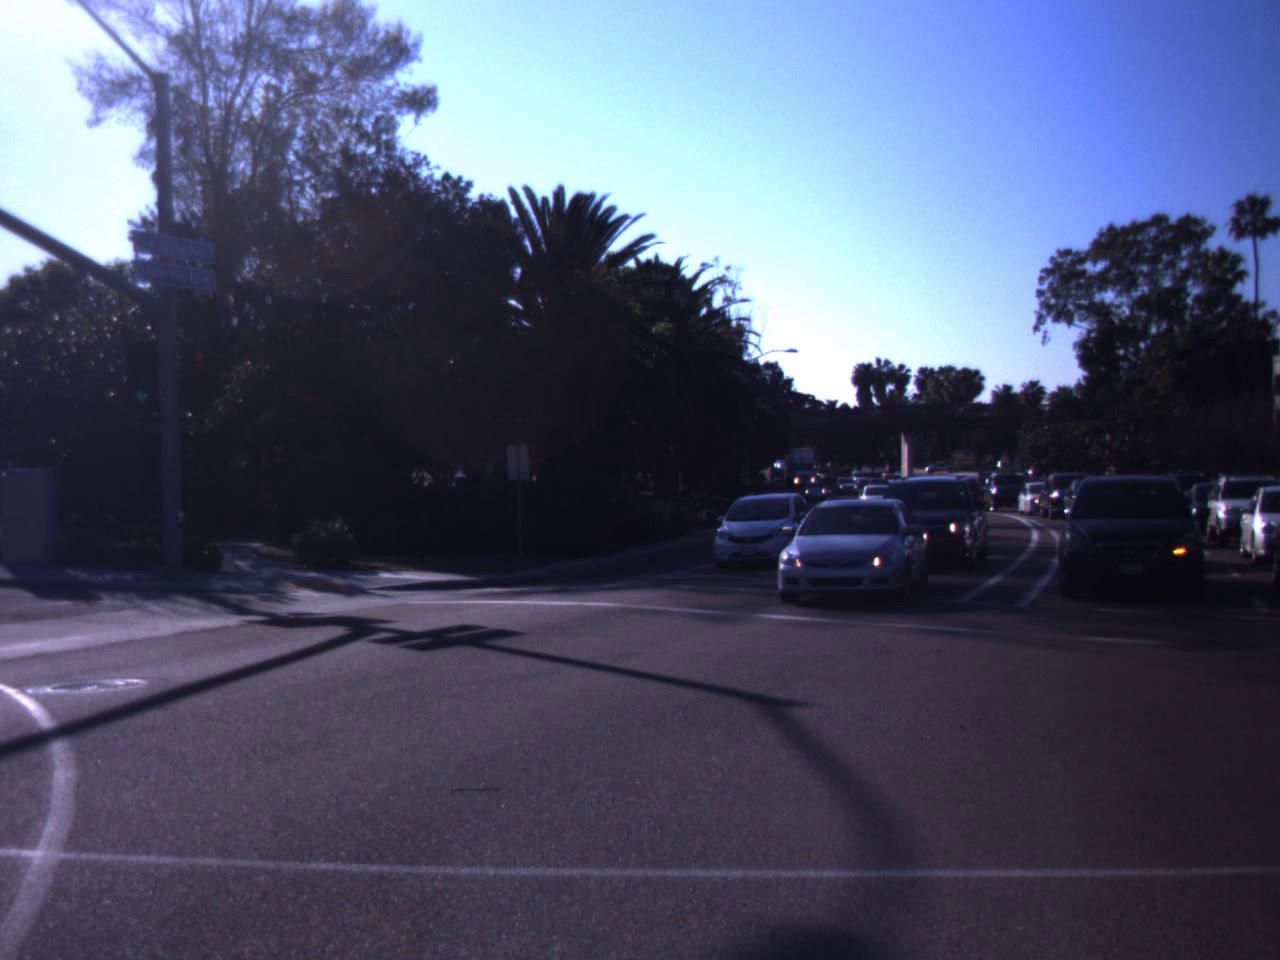go: (116, 321, 167, 411)
